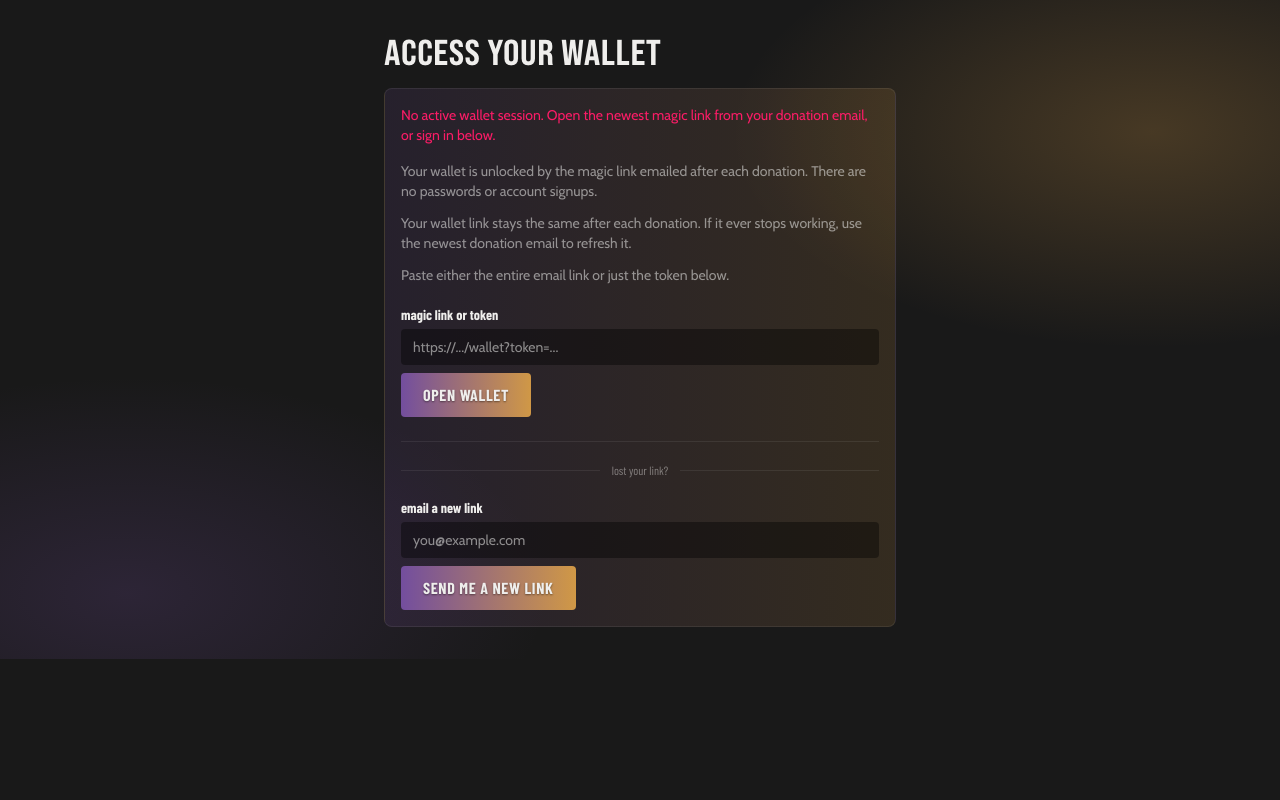
MyWallet › requests a new magic link by email
Step 1. Type "alice@example.com" into the field with placeholder "you@example.com" → x=640, y=540, box x1=401 y1=522 x2=879 y2=558
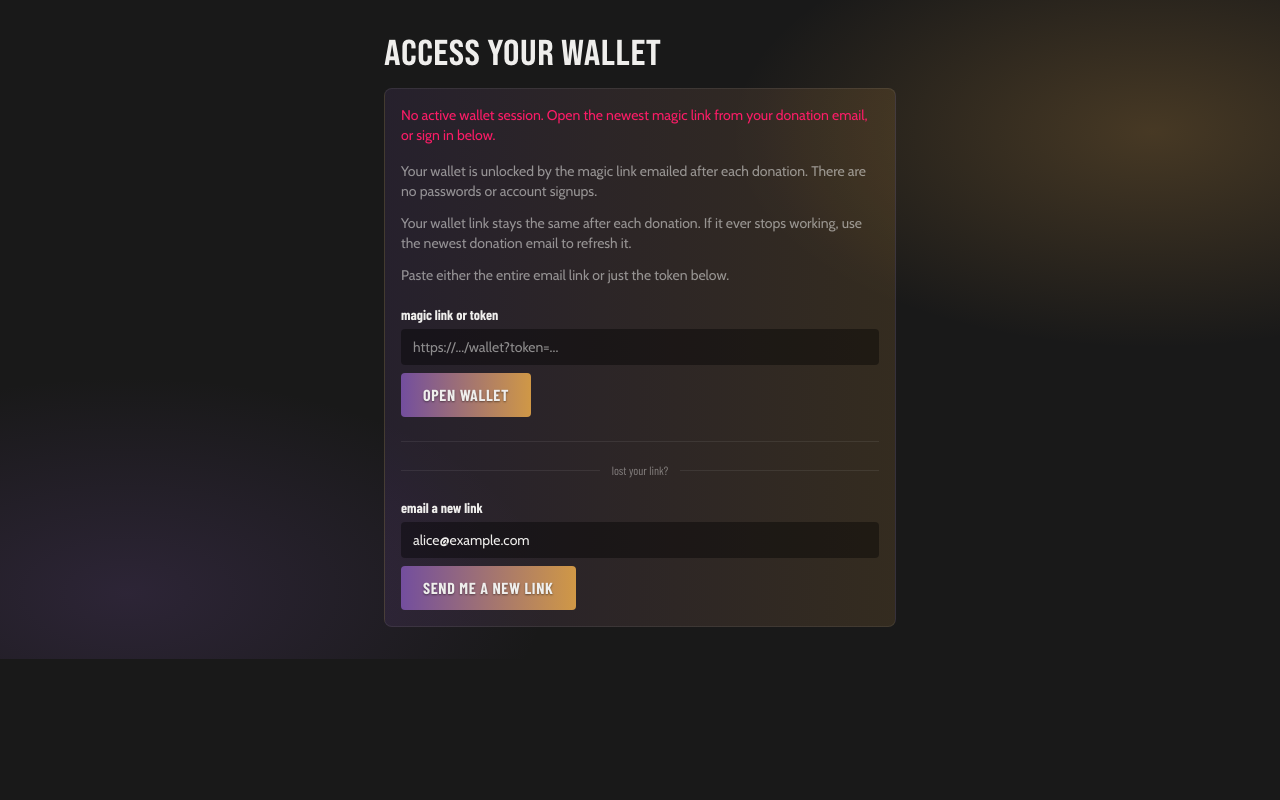
Step 2. Click the button "send me a new link" → x=488, y=588, box x1=401 y1=566 x2=576 y2=610
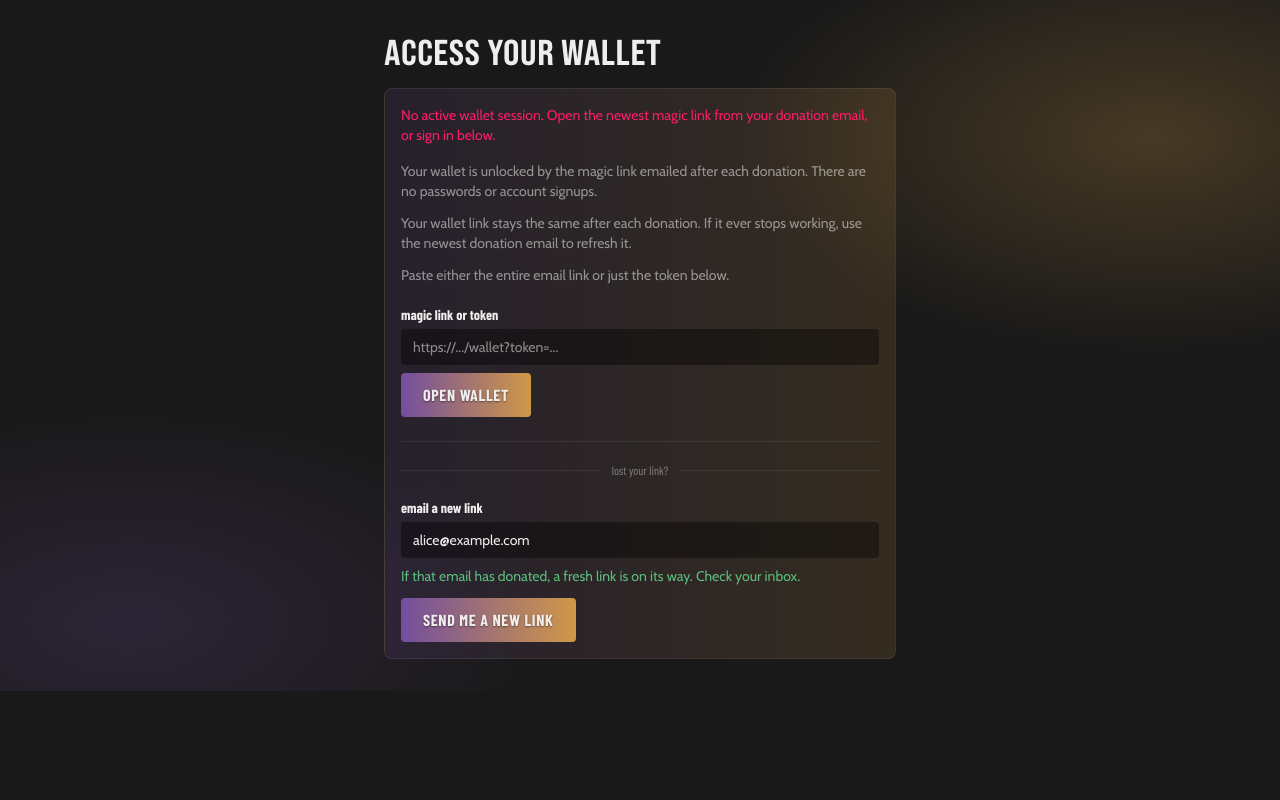
expect the text "fresh link is on its way" is shown: met, box x1=401 y1=567 x2=800 y2=585
